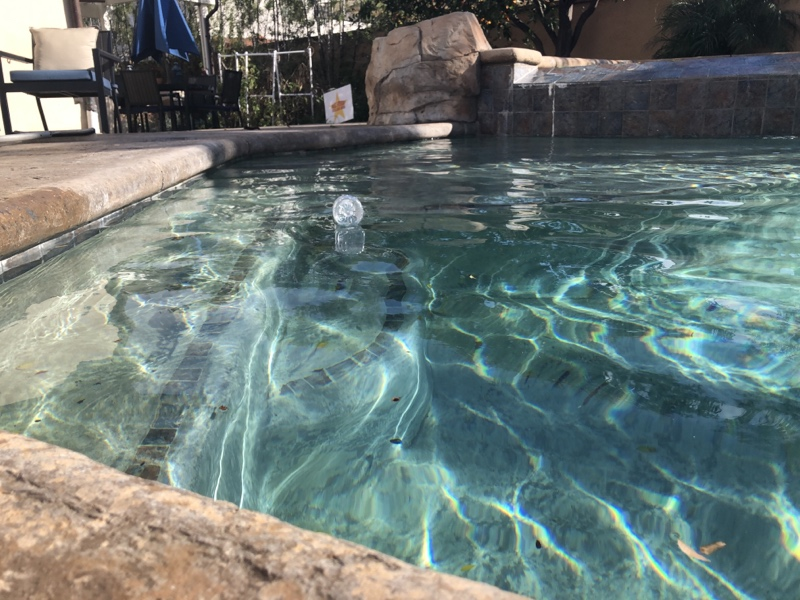Plastic Bottle: (331, 192, 365, 231)
